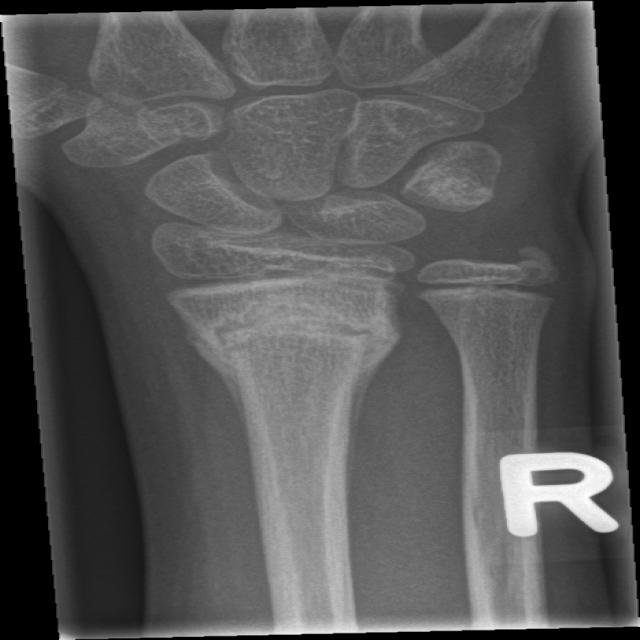radius fracture: (166, 292, 423, 434)
